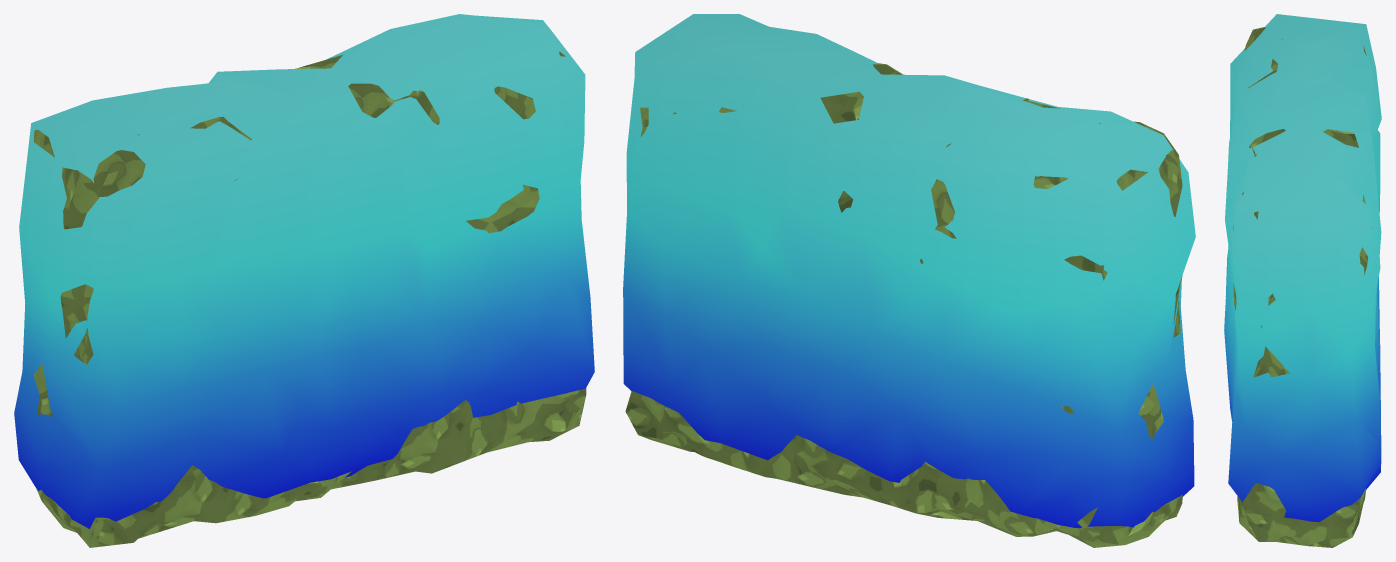
File: SM_Env_Hedge_04.fbx
3 renders of one model, left to right at view 1: azimuth 30°, elevation 25°; view 2: azimuth 150°, elevation 25°; view 3: azimuth 270°, elevation 25°, orthographic. The views are drawn at different scales.
Parts seen in each view (by area): view 1: SM_Env_Hedge_04_LOD0; view 2: SM_Env_Hedge_04_LOD0; view 3: SM_Env_Hedge_04_LOD0.
Boxes of the visible parts, bbox=[...] form: SM_Env_Hedge_04_LOD0: bbox=[14, 14, 594, 547]; SM_Env_Hedge_04_LOD0: bbox=[623, 14, 1195, 547]; SM_Env_Hedge_04_LOD0: bbox=[1224, 14, 1381, 547].
Size of what is drawn, in the model's own units: 284 by 216 by 86.51.
